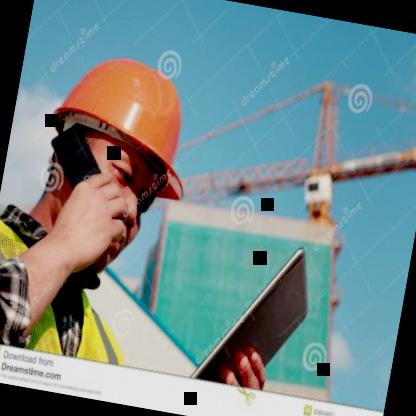helmet: (10, 23, 216, 284)
